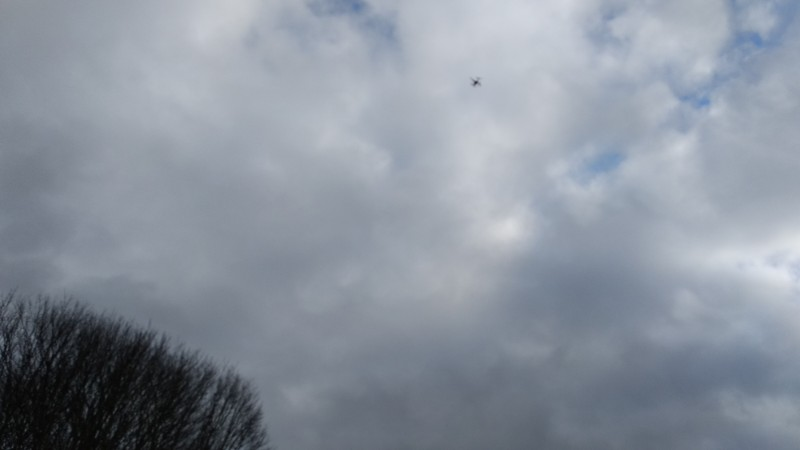drone: (471, 77, 482, 87)
